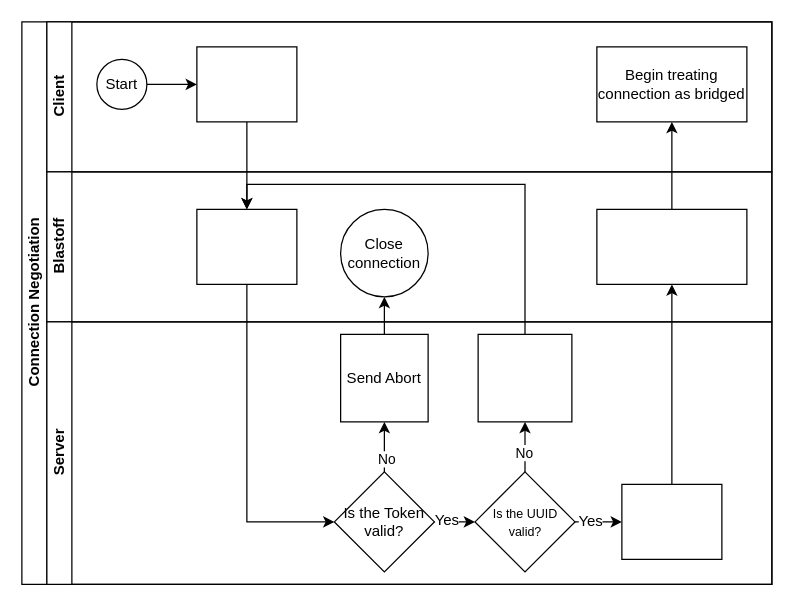
This 794x606 diagram has some shape labels left out. Here are the shapes that lost their labels. From the top down, the centre of each, then its label:
the point at 246,84: Send UUID and validation token to Blastoff
the point at 246,246: Use UUID to lookup server. Forward token
the point at 671,246: Send ClientValidated and bridge connection
the point at 524,377: Send Redirect with UUID
the point at 671,521: Send "ClientValidated" response
